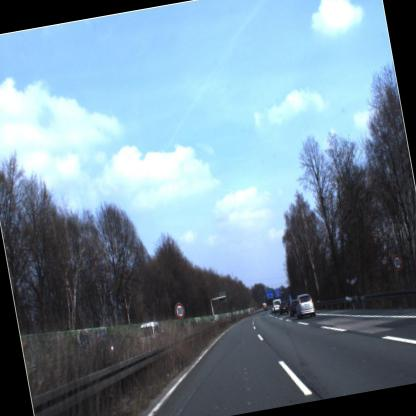prohibitory: (168, 299, 188, 327), (389, 250, 404, 274)
